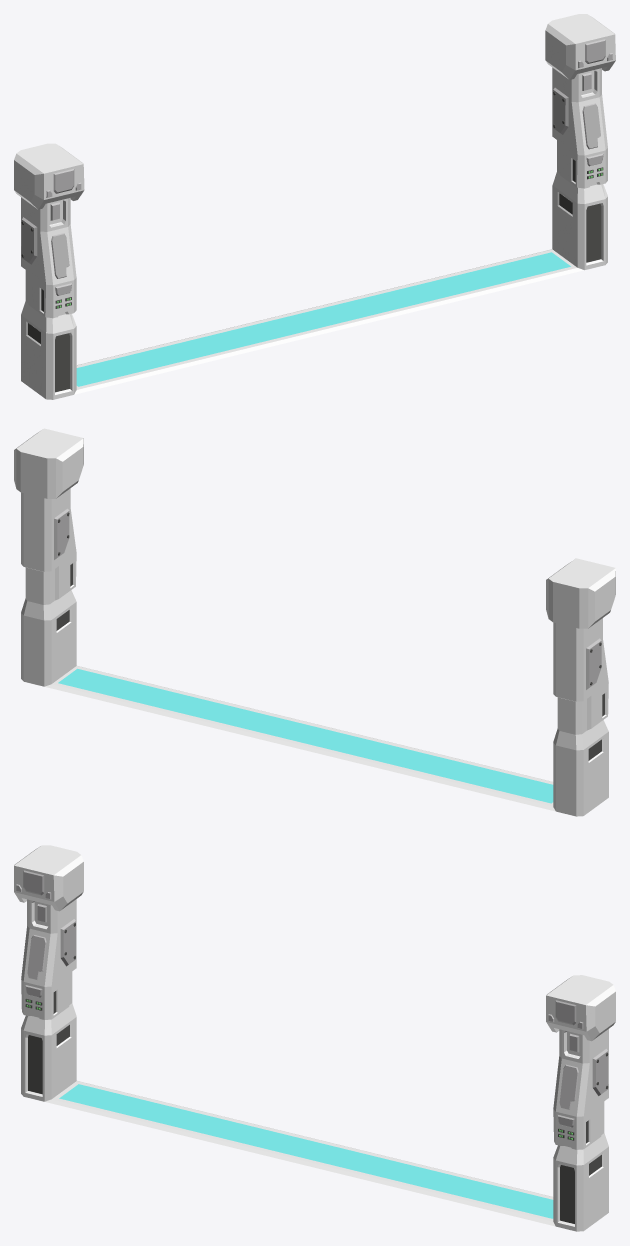
Rendered from Hangar_DroneCharger_01.fbx.
3 renders of one model, top to bottom at view 1: azimuth 30°, elevation 25°; view 2: azimuth 150°, elevation 25°; view 3: azimuth 330°, elevation 25°, orthographic.
Parts seen in each view (by area): view 1: DroneCharger_01; view 2: DroneCharger_01; view 3: DroneCharger_01.
Boxes of the visible parts, box(x1,y1,x2,y2) form: DroneCharger_01: box(14, 14, 615, 399); DroneCharger_01: box(14, 428, 615, 816); DroneCharger_01: box(14, 845, 615, 1231).
Bounding box in the file's own units: 1333 × 502 × 122.
